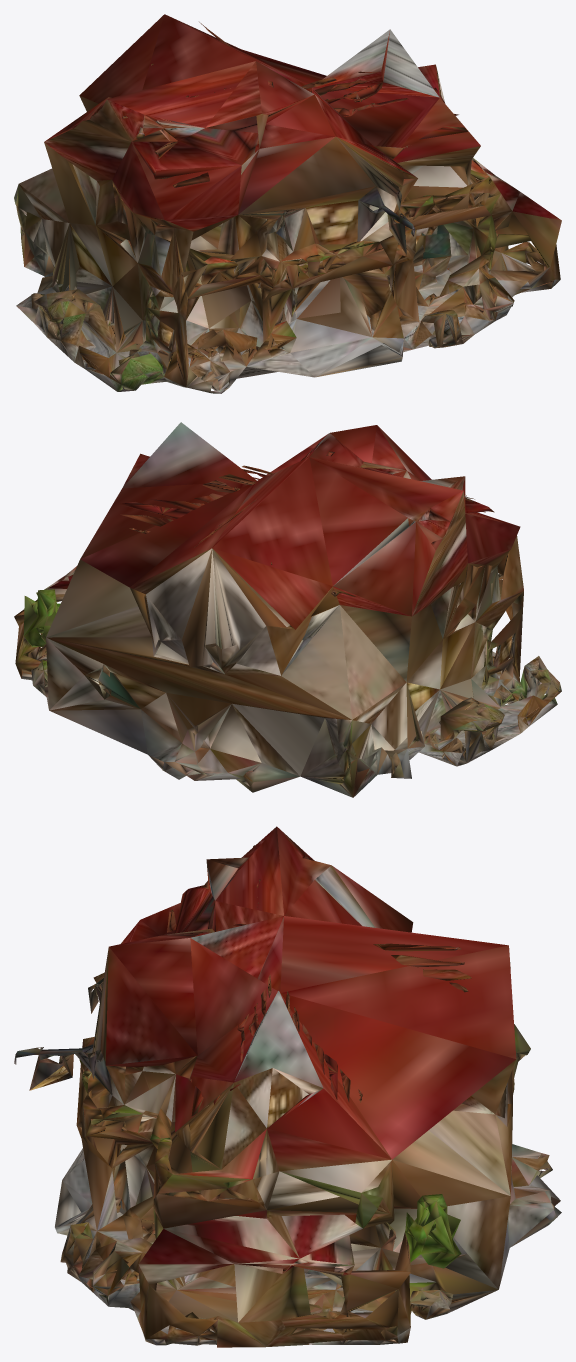
Rendered from inn_lod1.glb.
3 renders of one model, top to bottom at view 1: azimuth 30°, elevation 25°; view 2: azimuth 150°, elevation 25°; view 3: azimuth 270°, elevation 25°, orthographic. The views are drawn at different scales.
Visible parts, largest first — view 1: Mesh_0; view 2: Mesh_0; view 3: Mesh_0.
Boxes of the visible parts, x1,y1,x2,y2 form: Mesh_0: [14, 14, 561, 393]; Mesh_0: [14, 422, 561, 797]; Mesh_0: [14, 826, 561, 1347].
Bounding box in the file's own units: 1.86 × 0.9878 × 1.67.
Materials: 1 (1 with a texture image).
